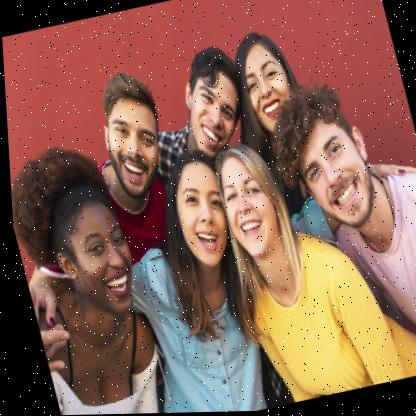person: (12, 147, 152, 331), (271, 81, 401, 245), (157, 144, 243, 280), (209, 139, 299, 267), (89, 69, 176, 201), (172, 38, 252, 156), (233, 31, 309, 141)
